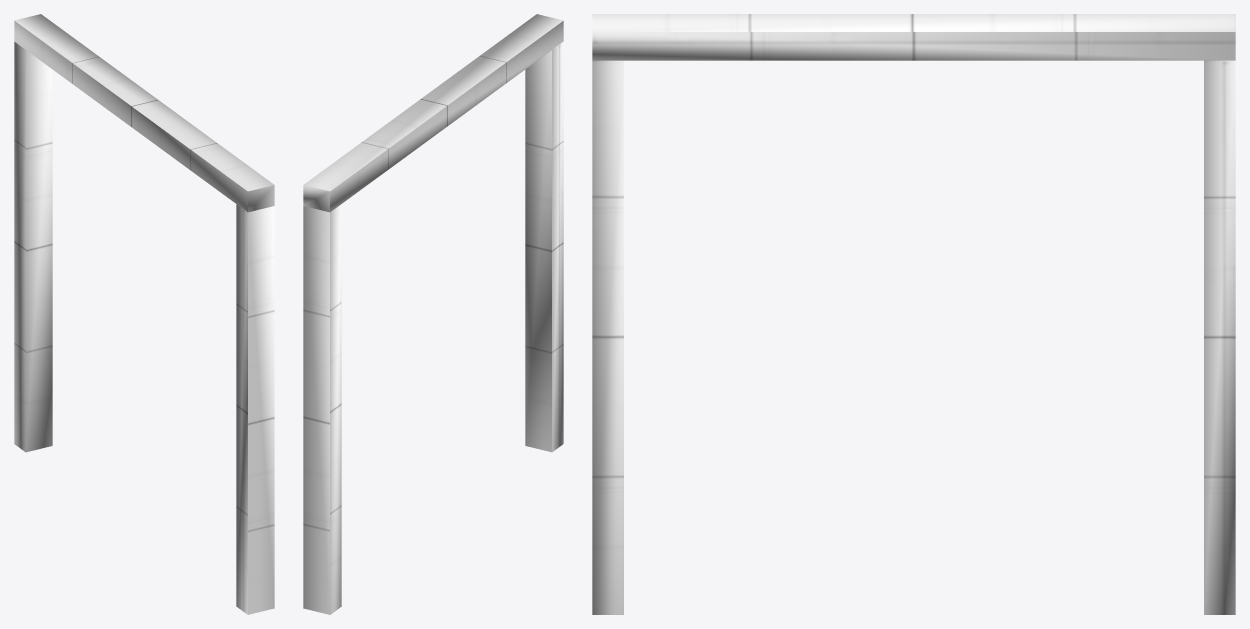
File: wall.frame.glb
3 renders of one model, left to right at view 1: azimuth 30°, elevation 25°; view 2: azimuth 150°, elevation 25°; view 3: azimuth 270°, elevation 25°, orthographic. The views are drawn at different scales.
Visible parts, largest first — view 1: wall.frame; view 2: wall.frame; view 3: wall.frame.
Part boxes in pixels (<box>): wall.frame: <box>14,14,274,614</box>; wall.frame: <box>303,14,563,614</box>; wall.frame: <box>592,14,1235,614</box>.
Bounding box in the file's own units: 0.1984 × 3 × 3.
1 material, 1 textured.
